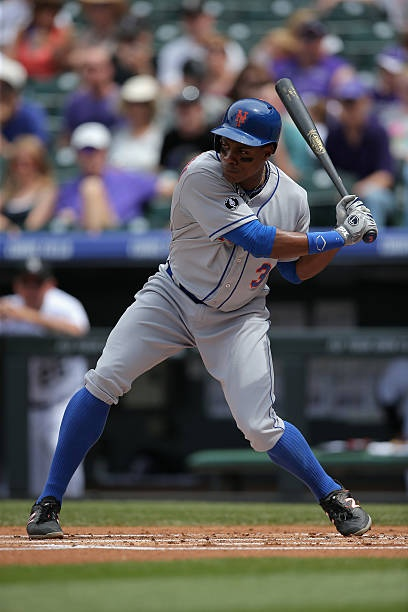bita: (276, 78, 367, 228)
